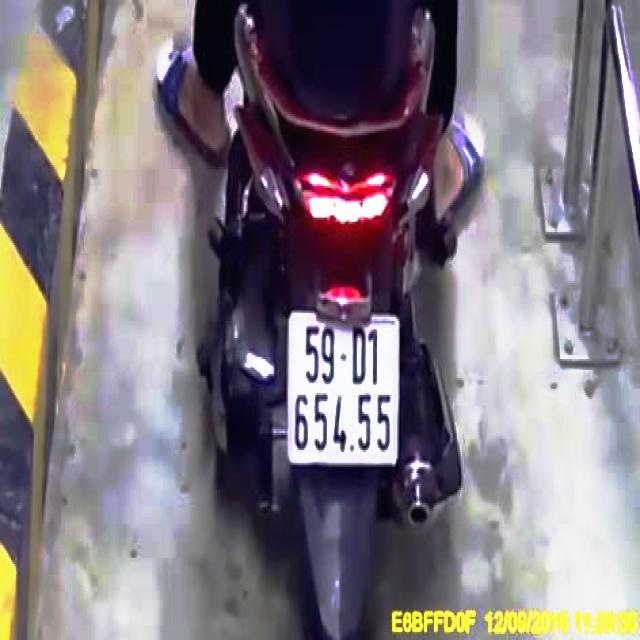license_plate: (288, 311, 401, 460)
